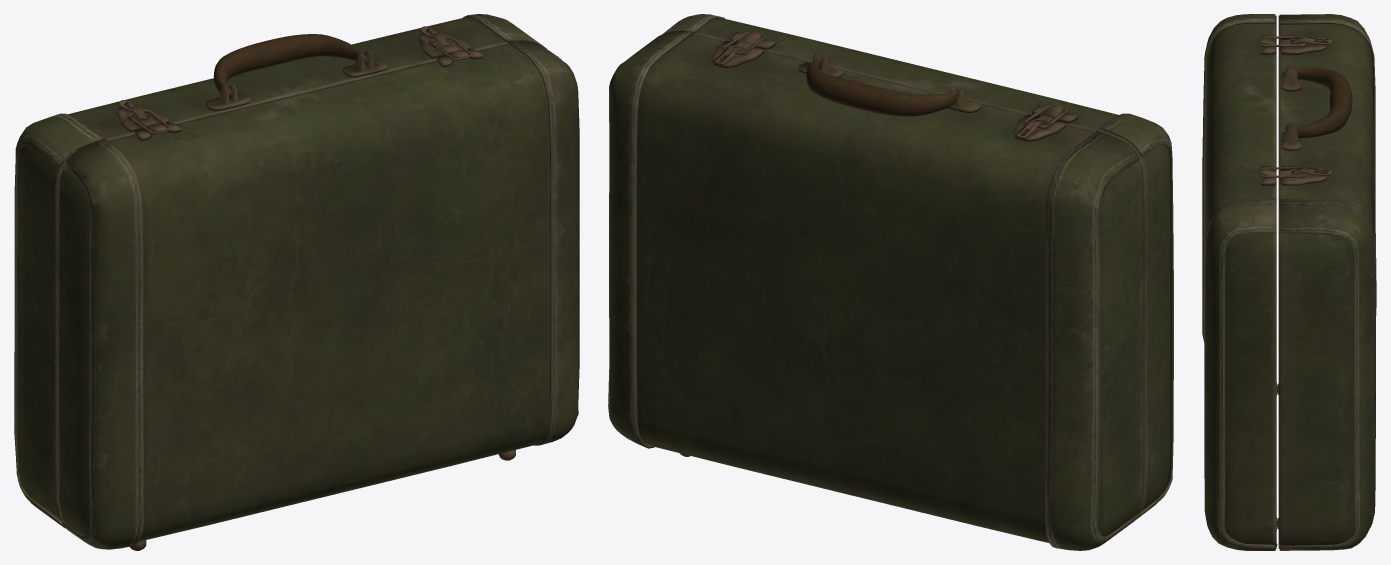
File: suitcase-a.glb
3 views of the same model, side by side, from view 1: azimuth 30°, elevation 25°; view 2: azimuth 150°, elevation 25°; view 3: azimuth 270°, elevation 25° (orthographic). The views are drawn at different scales.
Parts seen in each view (by area): view 1: vintage_suitcase_01_bottom; view 2: vintage_suitcase_01_bottom; view 3: vintage_suitcase_01_bottom.
Boxes of the visible parts, box(x1,y1,x2,y2) form: vintage_suitcase_01_bottom: box(14, 14, 579, 550); vintage_suitcase_01_bottom: box(608, 14, 1173, 550); vintage_suitcase_01_bottom: box(1202, 14, 1376, 550).
Size of the model in its own units: 0.6938 by 0.5679 by 0.2392.
1 material, 1 textured.
